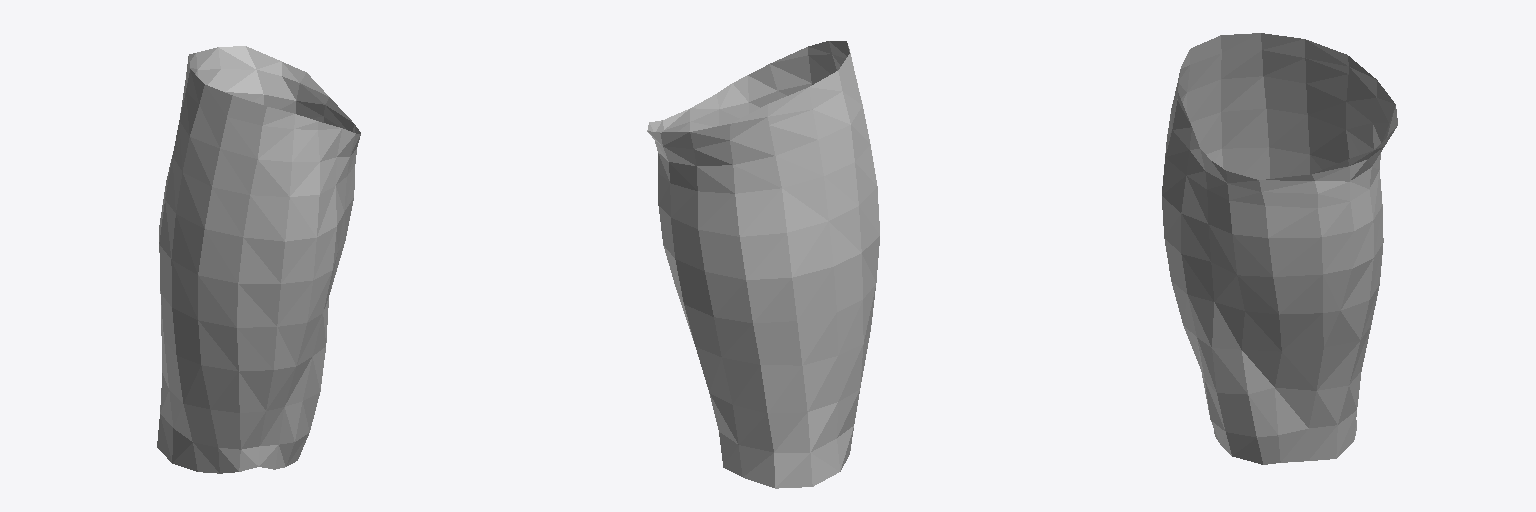
Rendered from LeftLeg.obj.
3 views of the same model, side by side, from view 1: azimuth 30°, elevation 25°; view 2: azimuth 150°, elevation 25°; view 3: azimuth 270°, elevation 25° (orthographic).
Visible parts, largest first — view 1: Model001_22_legs_0_6_75_75_foot_leg ankle left polySurface1; view 2: Model001_22_legs_0_6_75_75_foot_leg ankle left polySurface1; view 3: Model001_22_legs_0_6_75_75_foot_leg ankle left polySurface1.
Boxes of the visible parts, x1,y1,x2,y2 form: Model001_22_legs_0_6_75_75_foot_leg ankle left polySurface1: [157, 46, 360, 473]; Model001_22_legs_0_6_75_75_foot_leg ankle left polySurface1: [647, 41, 879, 488]; Model001_22_legs_0_6_75_75_foot_leg ankle left polySurface1: [1162, 33, 1397, 464].
Size of the model in its own units: 0.213 by 0.4431 by 0.2438.